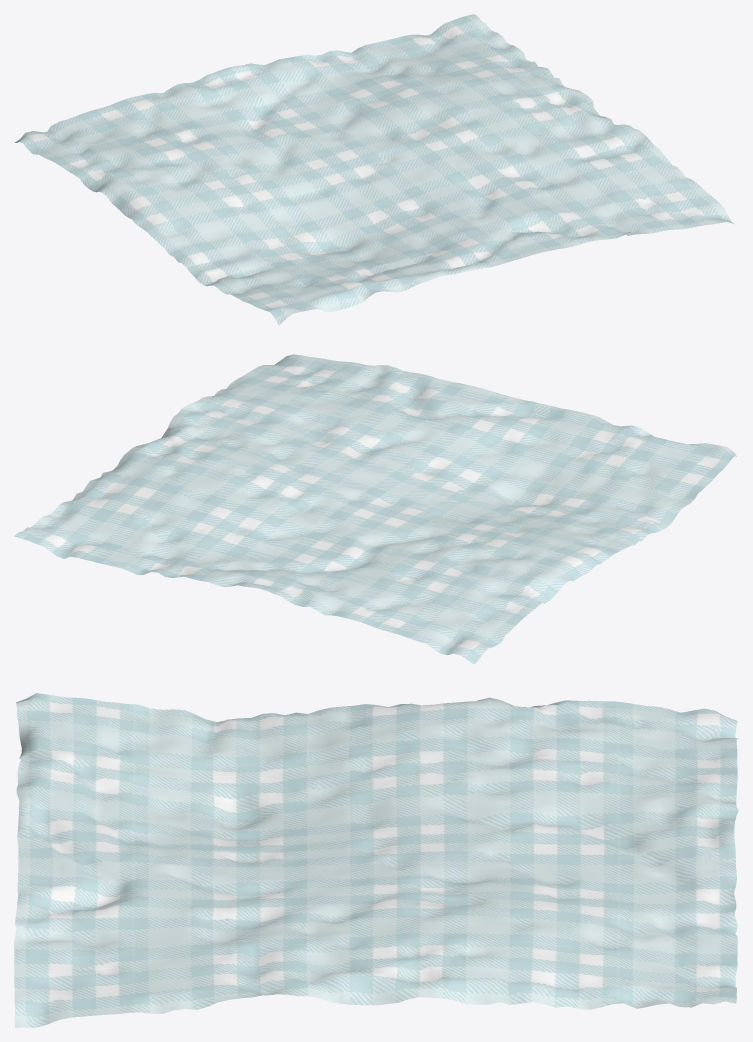
Rendered from blanket.gltf.
3 views of the same model, one above another, from view 1: azimuth 30°, elevation 25°; view 2: azimuth 150°, elevation 25°; view 3: azimuth 270°, elevation 25° (orthographic). The views are drawn at different scales.
Visible parts, largest first — view 1: Plane; view 2: Plane; view 3: Plane.
Boxes of the visible parts, <box> form: Plane: <box>14,14,734,325</box>; Plane: <box>14,354,736,664</box>; Plane: <box>14,693,738,1027</box>.
Bounding box in the file's own units: 10.23 × 0.6972 × 10.19.
Materials: 1 (1 with a texture image).
